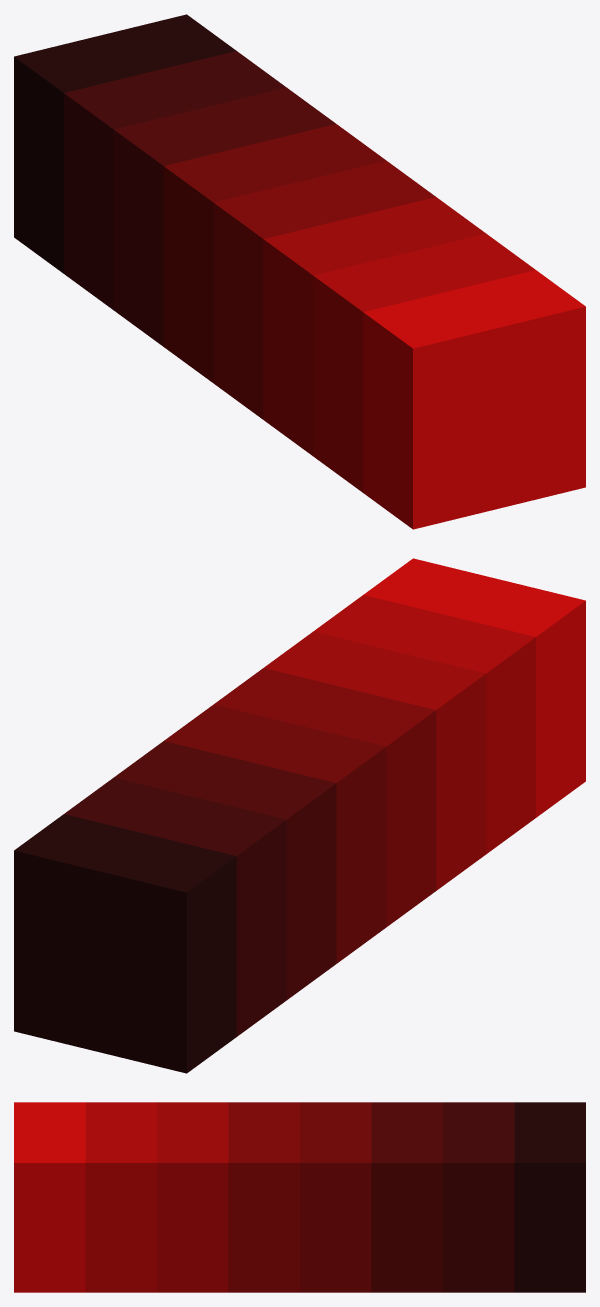
The model's file is sniper rifle b.FBX.
3 views of the same model, one above another, from view 1: azimuth 30°, elevation 25°; view 2: azimuth 150°, elevation 25°; view 3: azimuth 270°, elevation 25° (orthographic). The views are drawn at different scales.
Visible parts, largest first — view 1: sniper rifle 3; view 2: sniper rifle 3; view 3: sniper rifle 3.
Boxes of the visible parts, box(x1,y1,x2,y2) form: sniper rifle 3: box(14, 14, 585, 529); sniper rifle 3: box(14, 558, 585, 1073); sniper rifle 3: box(14, 1102, 585, 1292).
Size of the model in its own units: 2 by 2 by 8.
Materials: 1 (1 with a texture image).
